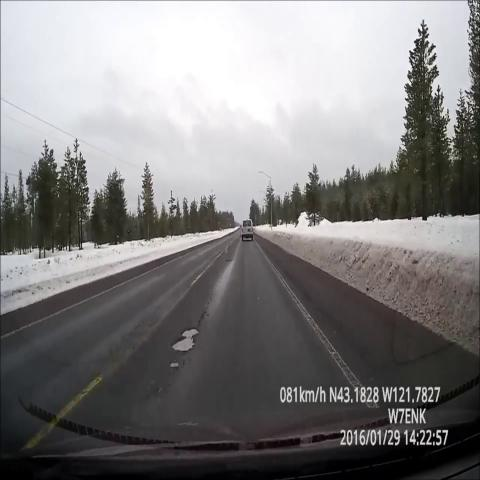pothole: (164, 304, 213, 377), (218, 245, 237, 274)
